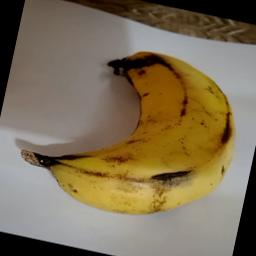Banana Unripe: (4, 27, 254, 234)
